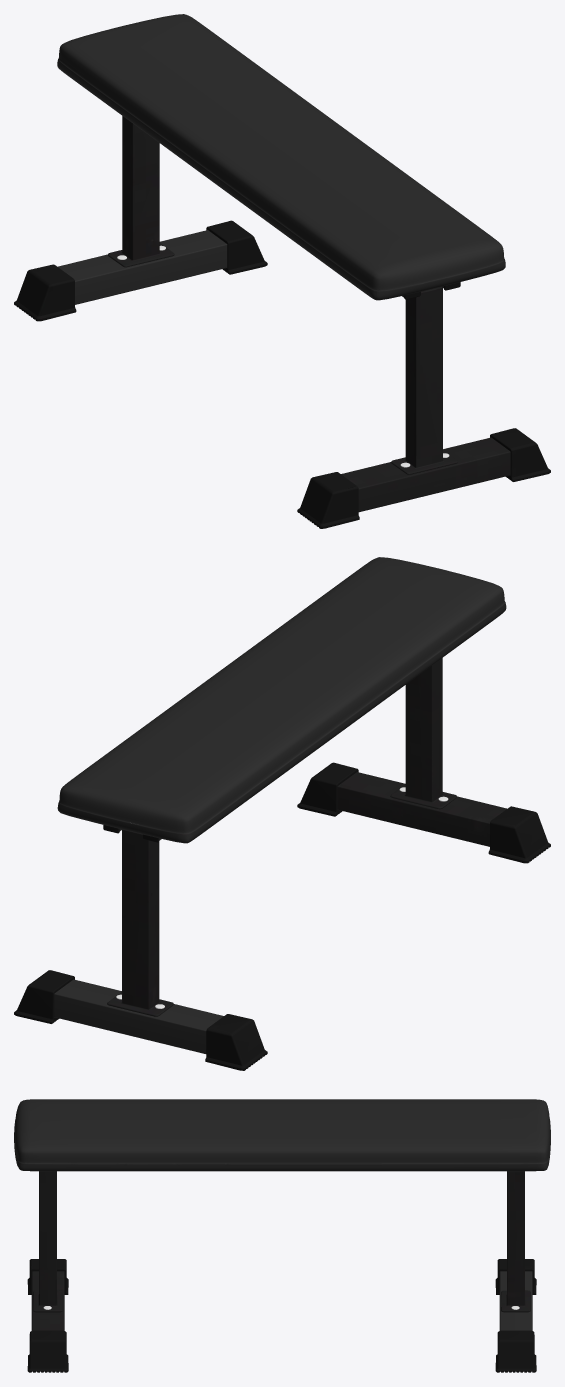
File: abo-B072Z1WN4S.glb
3 views of the same model, one above another, from view 1: azimuth 30°, elevation 25°; view 2: azimuth 150°, elevation 25°; view 3: azimuth 270°, elevation 25° (orthographic). The views are drawn at different scales.
Size of the model in its own units: 0.439 by 0.453 by 1.07.
Materials: 1 (1 with a texture image).
